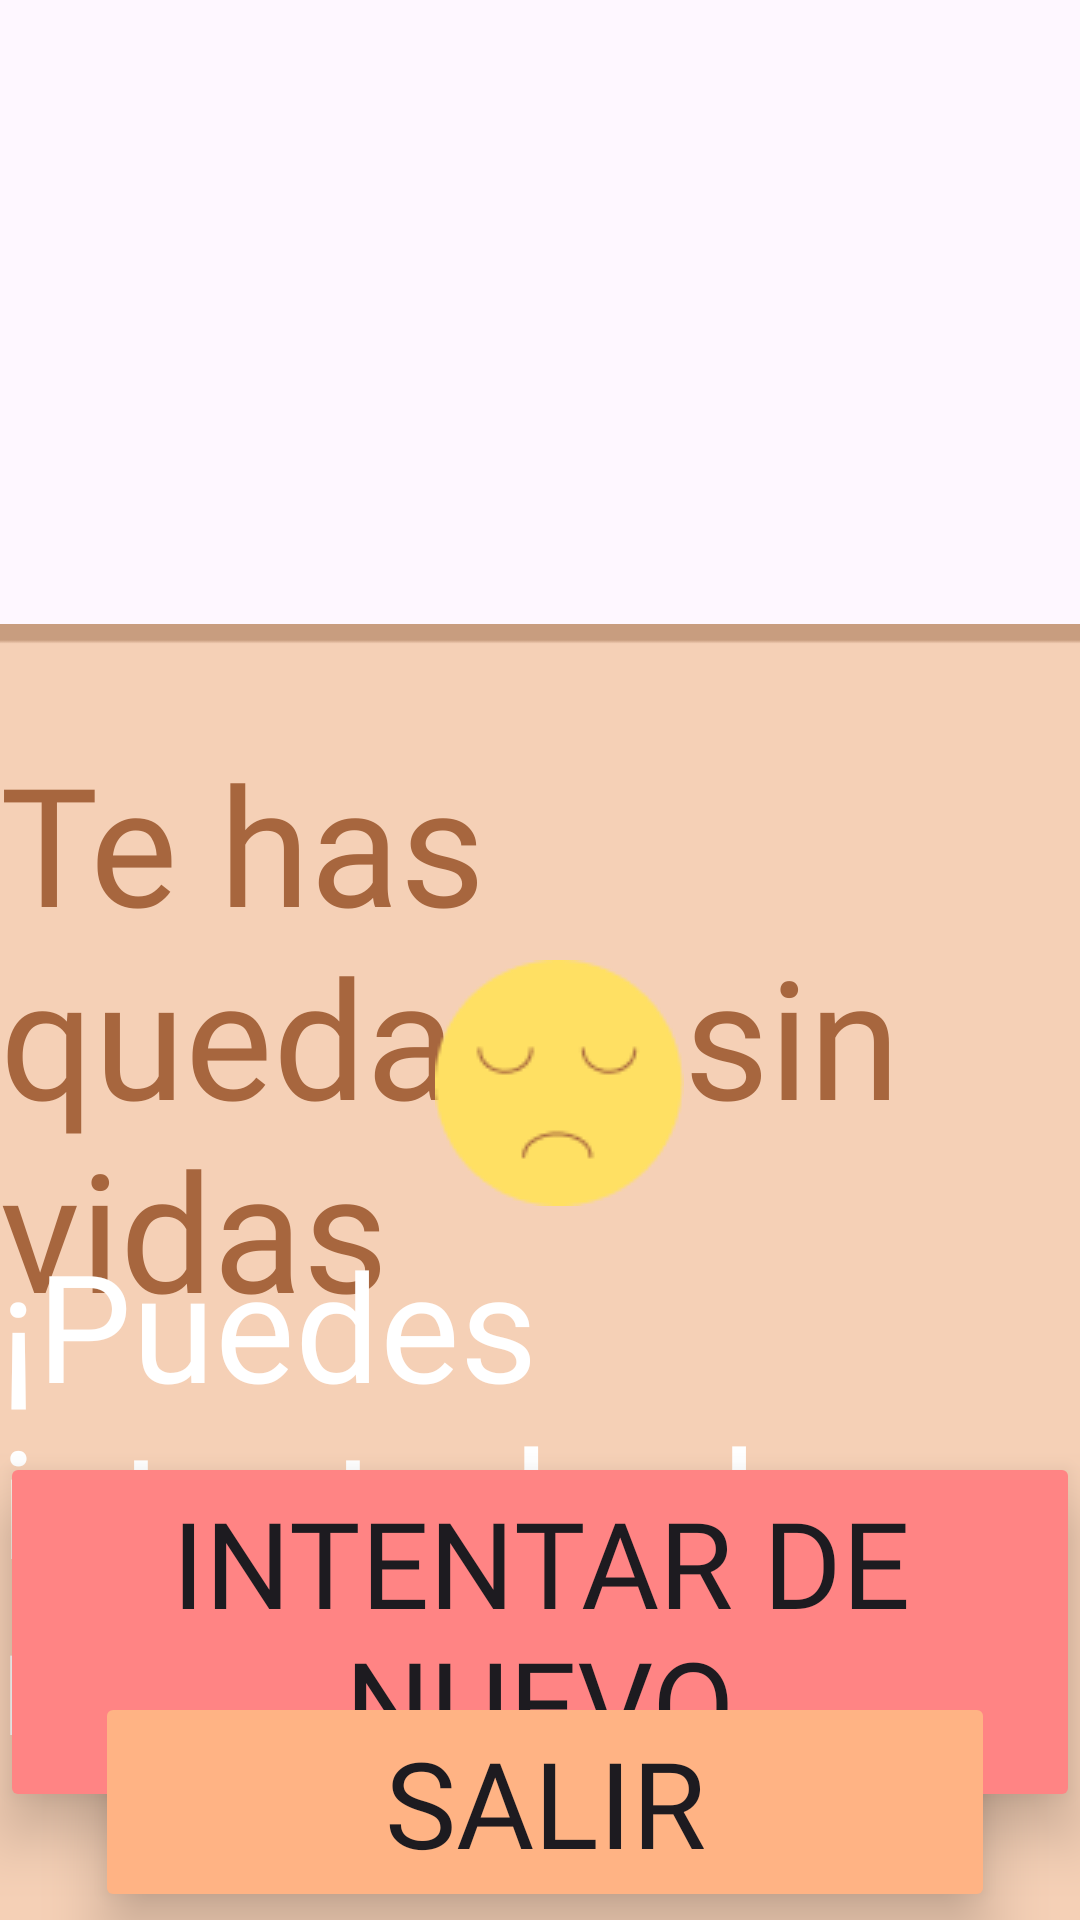

Point at icon controls on the screen. Image size 1080 × 1920, points as point (x, y).
carita: point (559, 1083)
